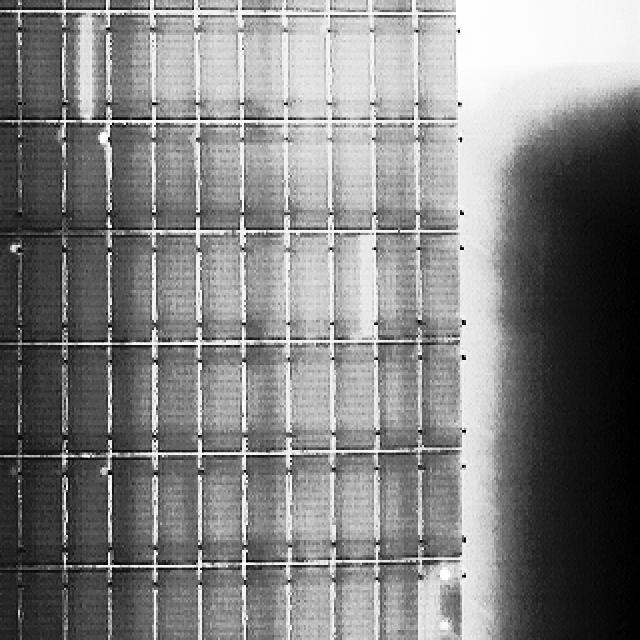Hotspots: (437, 568, 458, 586), (1, 239, 20, 258), (93, 126, 107, 148), (437, 616, 453, 634), (8, 466, 21, 482), (98, 467, 108, 479)
PV-modules: (240, 341, 288, 453), (63, 342, 110, 456), (151, 126, 199, 235), (63, 231, 109, 344), (370, 18, 419, 124), (110, 457, 157, 567), (198, 232, 244, 344), (157, 456, 203, 567), (111, 347, 157, 458), (289, 229, 335, 340), (20, 126, 66, 237), (239, 126, 285, 237), (22, 458, 67, 571), (110, 126, 156, 236), (22, 13, 68, 123), (20, 348, 66, 458), (111, 233, 156, 345), (291, 454, 336, 566), (291, 340, 336, 452), (62, 127, 108, 236), (153, 348, 199, 457), (20, 235, 66, 344), (246, 454, 292, 562), (378, 453, 424, 561), (63, 462, 109, 570), (200, 454, 245, 564), (331, 126, 376, 236), (240, 237, 285, 347), (423, 339, 468, 449), (62, 13, 108, 120), (332, 233, 377, 342), (198, 126, 243, 235), (159, 229, 202, 343), (108, 13, 153, 121), (332, 342, 376, 452), (200, 347, 244, 457), (284, 126, 328, 236), (421, 126, 465, 236), (155, 15, 200, 122), (332, 454, 376, 563), (197, 16, 242, 122), (374, 238, 418, 346), (375, 340, 418, 450), (329, 17, 374, 122), (243, 16, 288, 120), (372, 126, 414, 237), (424, 238, 467, 346), (414, 15, 457, 121), (420, 450, 462, 558), (283, 15, 326, 120), (284, 567, 332, 640), (331, 567, 377, 640), (424, 564, 468, 640), (199, 569, 245, 640), (246, 568, 291, 640), (379, 565, 422, 640), (156, 570, 202, 640), (63, 572, 109, 640), (111, 571, 156, 640), (22, 573, 68, 640), (0, 455, 20, 567), (0, 345, 20, 457), (0, 235, 20, 343), (0, 125, 18, 237), (0, 13, 16, 125), (0, 572, 18, 638), (240, 0, 284, 15), (368, 0, 414, 12), (328, 0, 372, 12), (418, 0, 458, 12), (106, 0, 152, 10), (60, 0, 106, 10), (150, 0, 194, 10), (280, 0, 324, 10), (194, 0, 238, 10), (20, 0, 66, 8), (0, 0, 16, 10)
